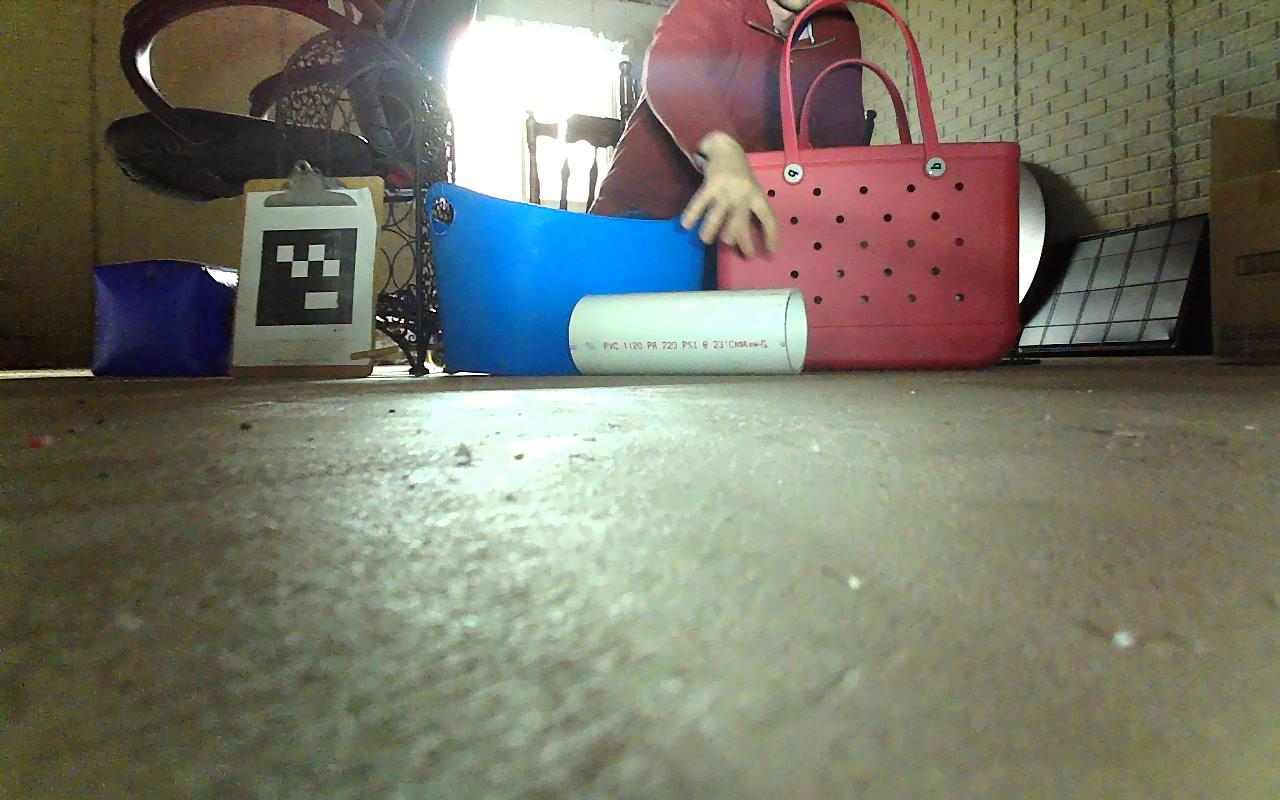coral: (569, 287, 808, 374)
